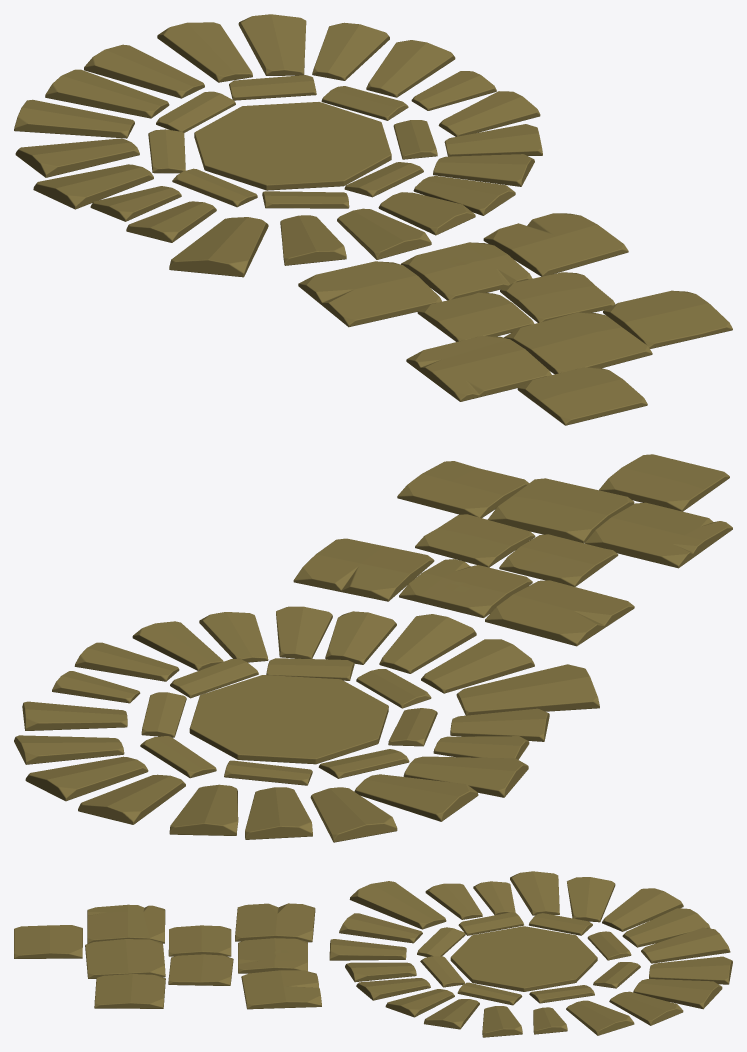
The model's file is OutsideTiles_high.fbx.
3 views of the same model, one above another, from view 1: azimuth 30°, elevation 25°; view 2: azimuth 150°, elevation 25°; view 3: azimuth 270°, elevation 25° (orthographic). The views are drawn at different scales.
Visible parts, largest first — view 1: Circletile_high; view 2: Circletile_high; view 3: Circletile_high.
Boxes of the visible parts, x1,y1,x2,y2 form: Circletile_high: [14, 14, 732, 425]; Circletile_high: [14, 454, 732, 842]; Circletile_high: [14, 871, 732, 1037].
Size of the model in its own units: 130 by 5.09 by 247.
